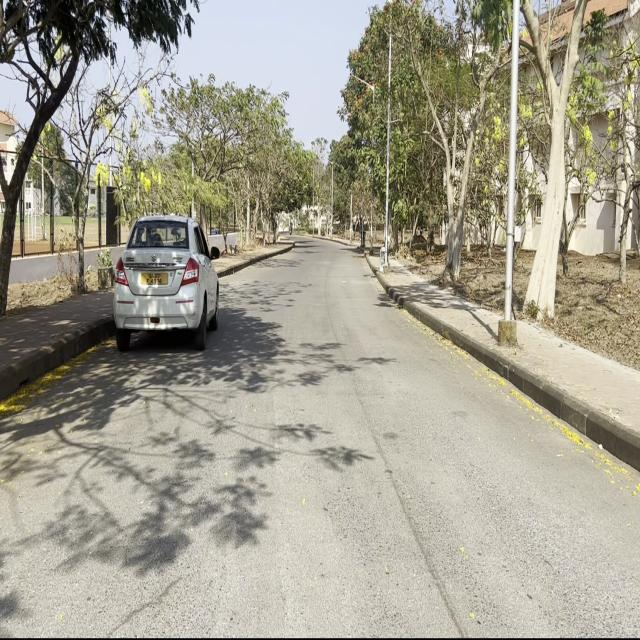Object: (112, 206, 223, 354)
Road: (1, 236, 638, 634)
